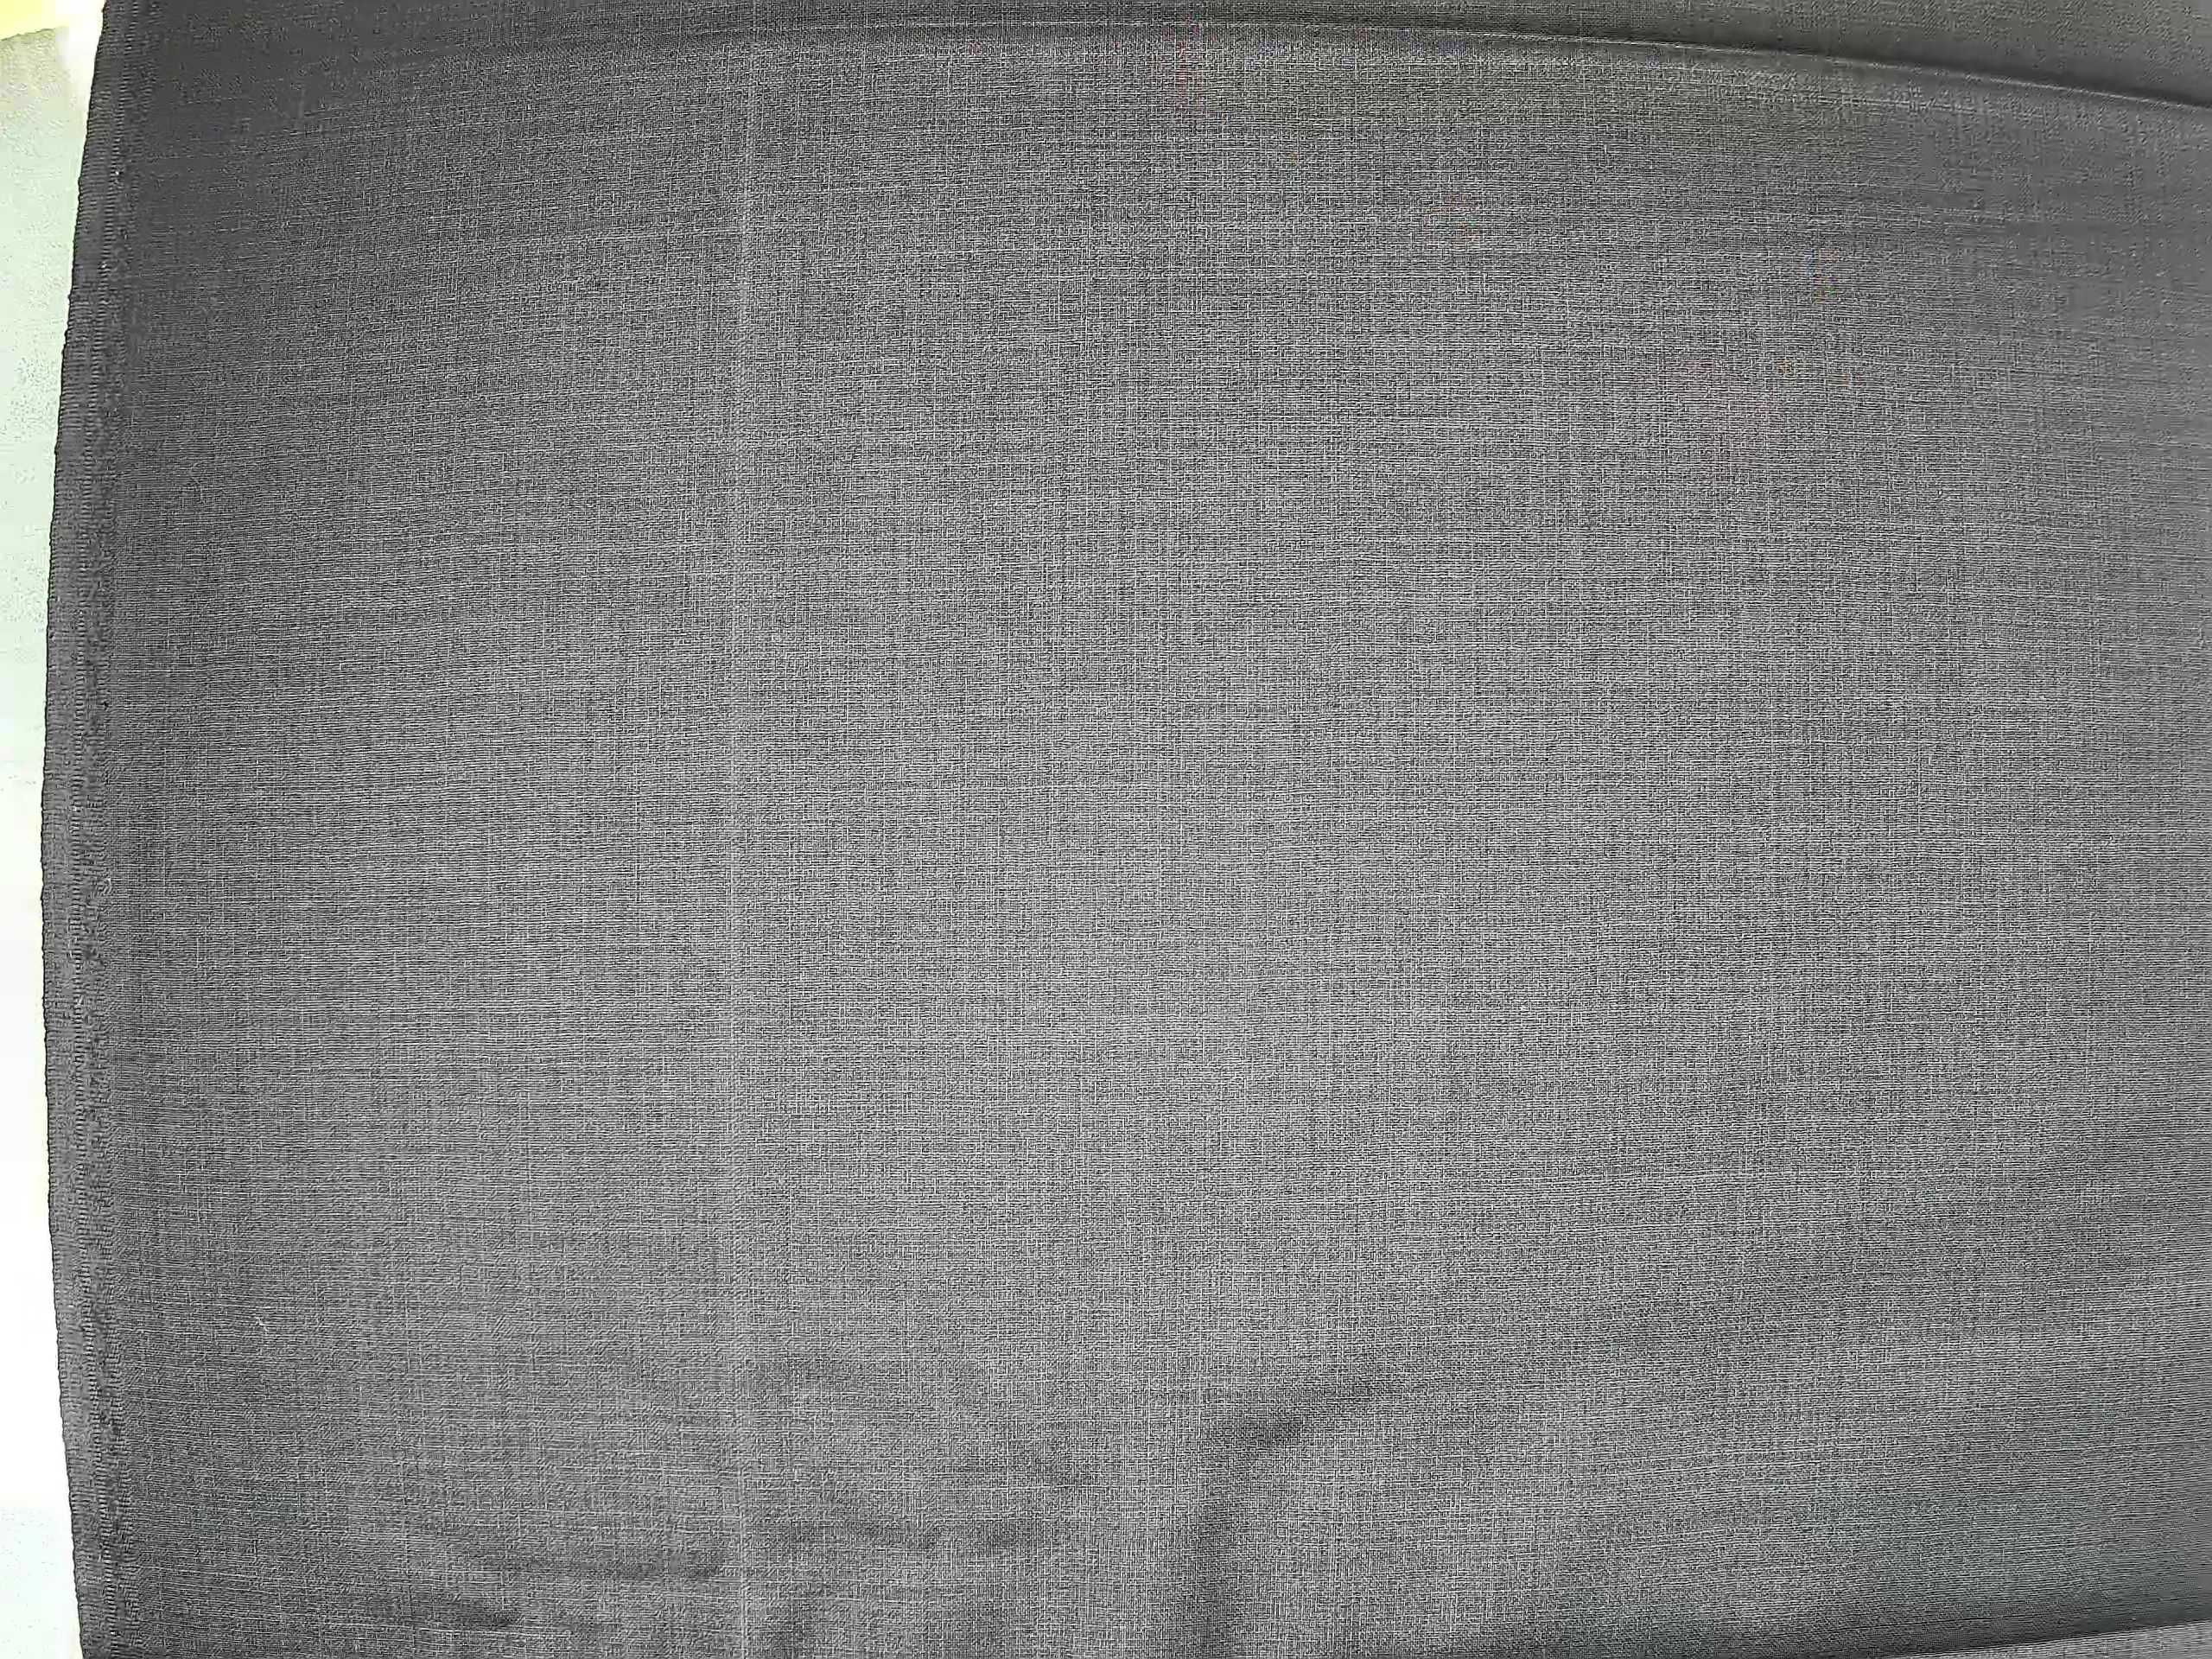lacking-warp: (711, 21, 787, 1636)
